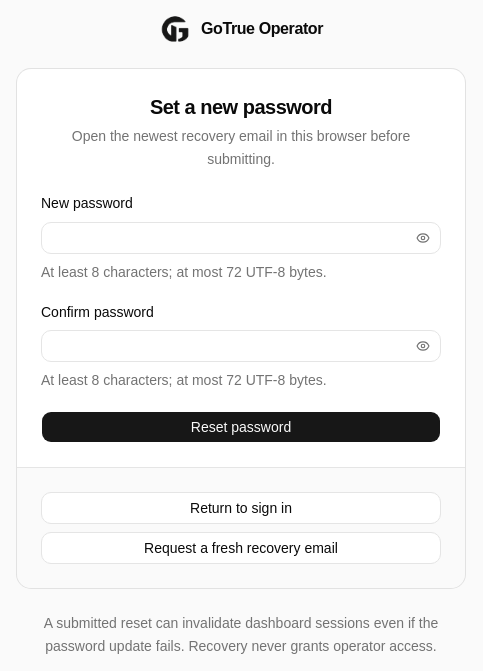
same-browser recovery UI › clears private caches after 204 and sends only password
Type "valid-password" into the password field labelled "New password" at (225, 238), box [42,222,409,254]
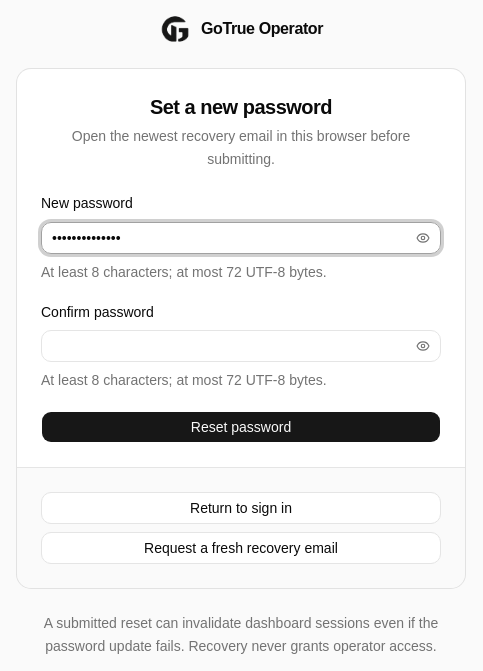
Type "valid-password" into the password field labelled "Confirm password" at (225, 346), box [42,330,409,362]
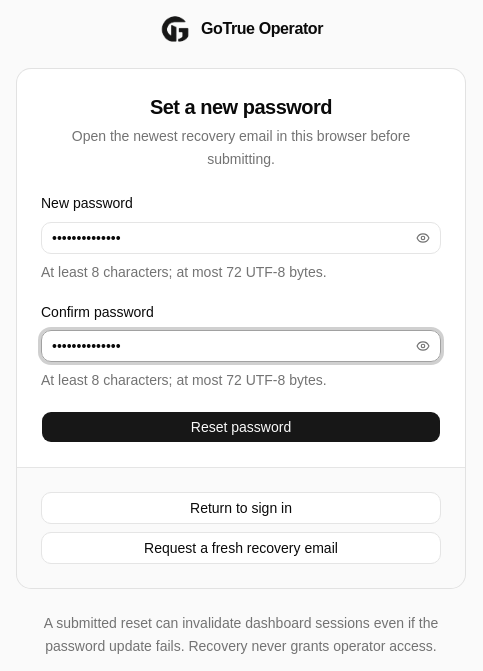
Click the button "Reset password" at (241, 427), box [41,411,441,443]
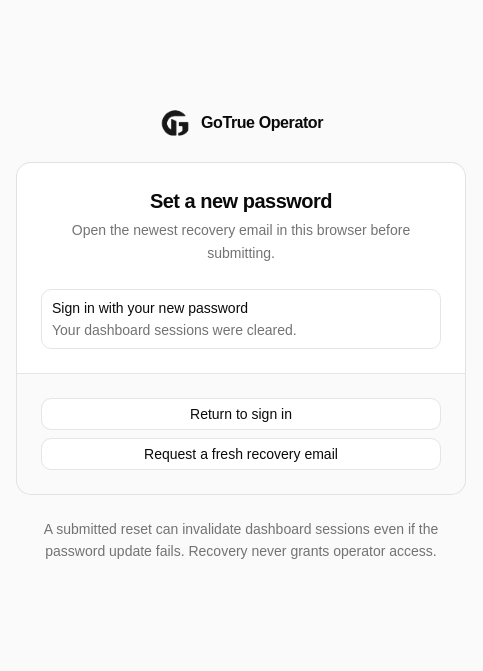
Expected: the message shows "Your dashboard sessions were cleared.", [52,322,297,338]
